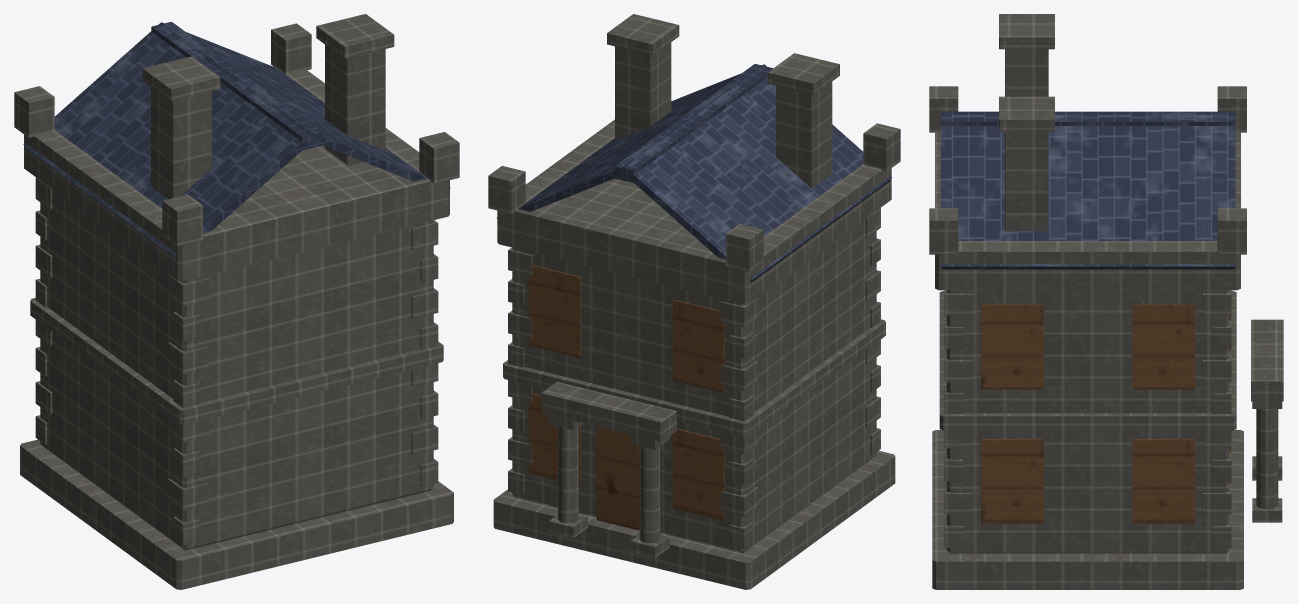
Rendered from grandhouse.gltf.
3 views of the same model, side by side, from view 1: azimuth 30°, elevation 25°; view 2: azimuth 150°, elevation 25°; view 3: azimuth 270°, elevation 25° (orthographic). The views are drawn at different scales.
Parts seen in each view (by area): view 1: GrandHouse; view 2: GrandHouse; view 3: GrandHouse.
Boxes of the visible parts, x1,y1,x2,y2 form: GrandHouse: (14,14,459,589); GrandHouse: (488,14,900,589); GrandHouse: (929,14,1283,589).
Size of the model in its own units: 2.18 by 3.46 by 2.43.
7 materials, 6 textured.
